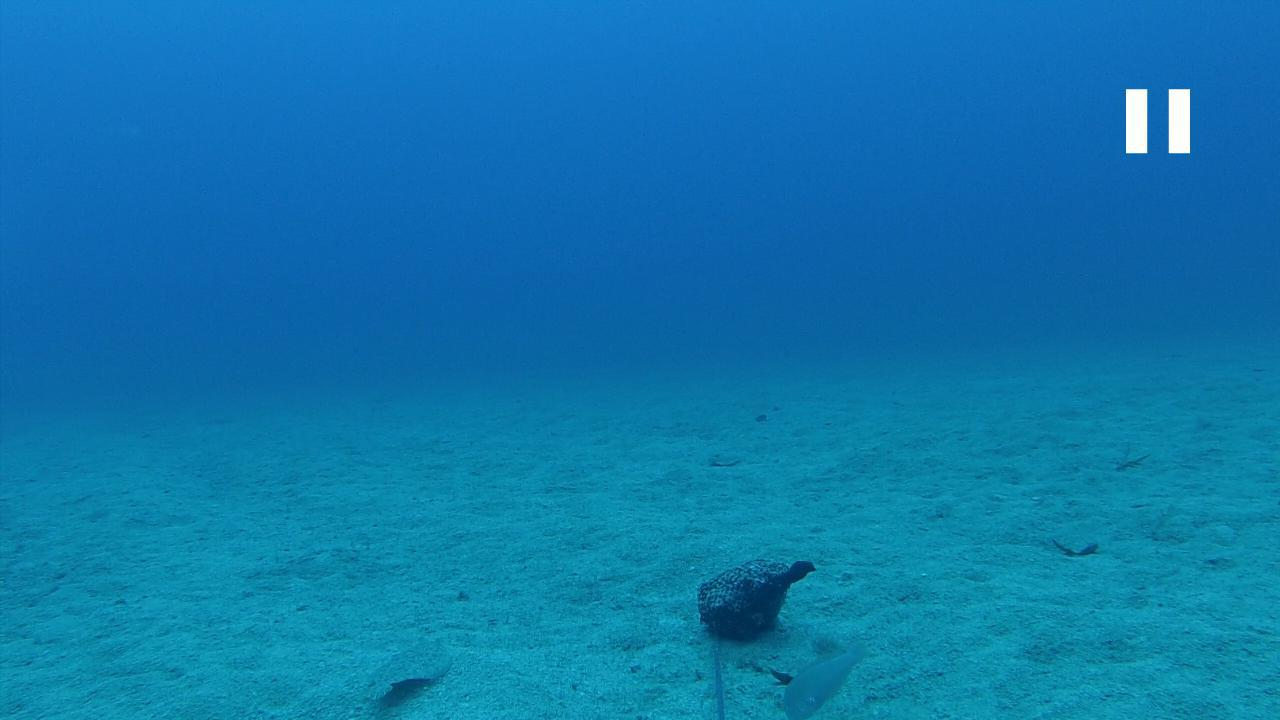bothus: (360, 630, 454, 704), (712, 452, 744, 467)
raor: (784, 643, 867, 717)
